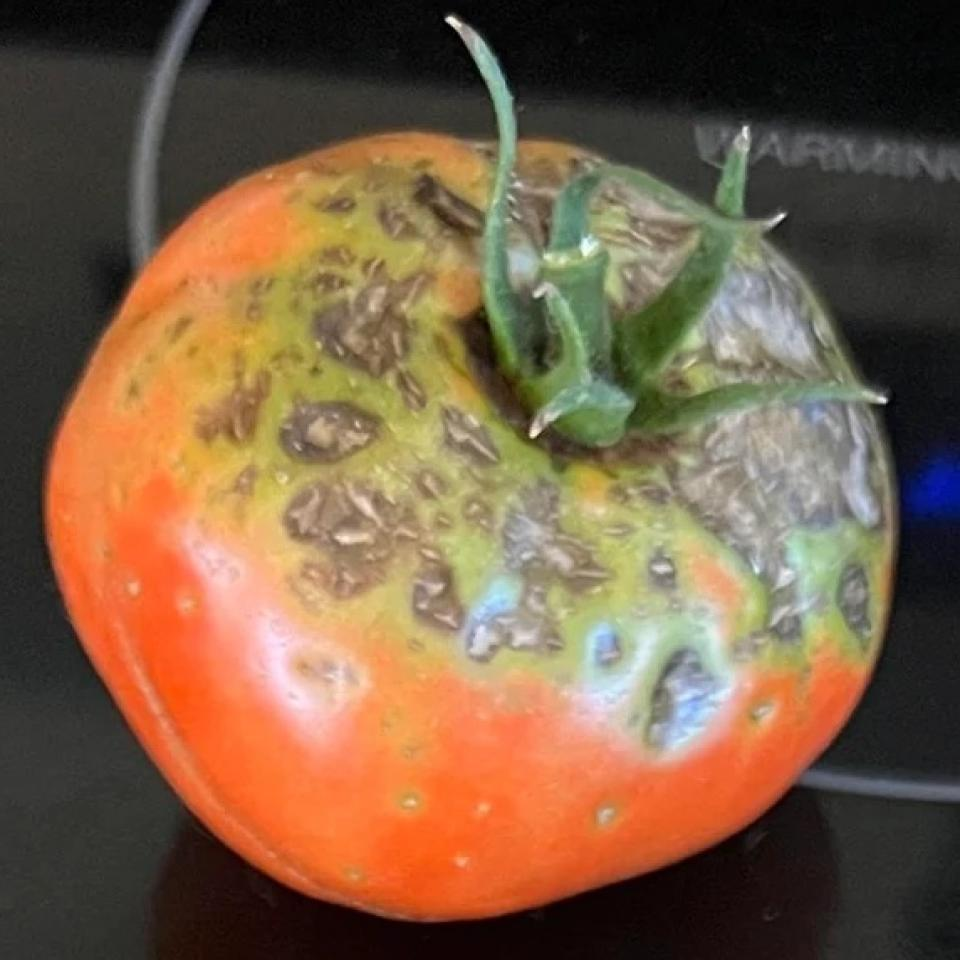Spotted wilt Virus: (47, 132, 895, 925)
